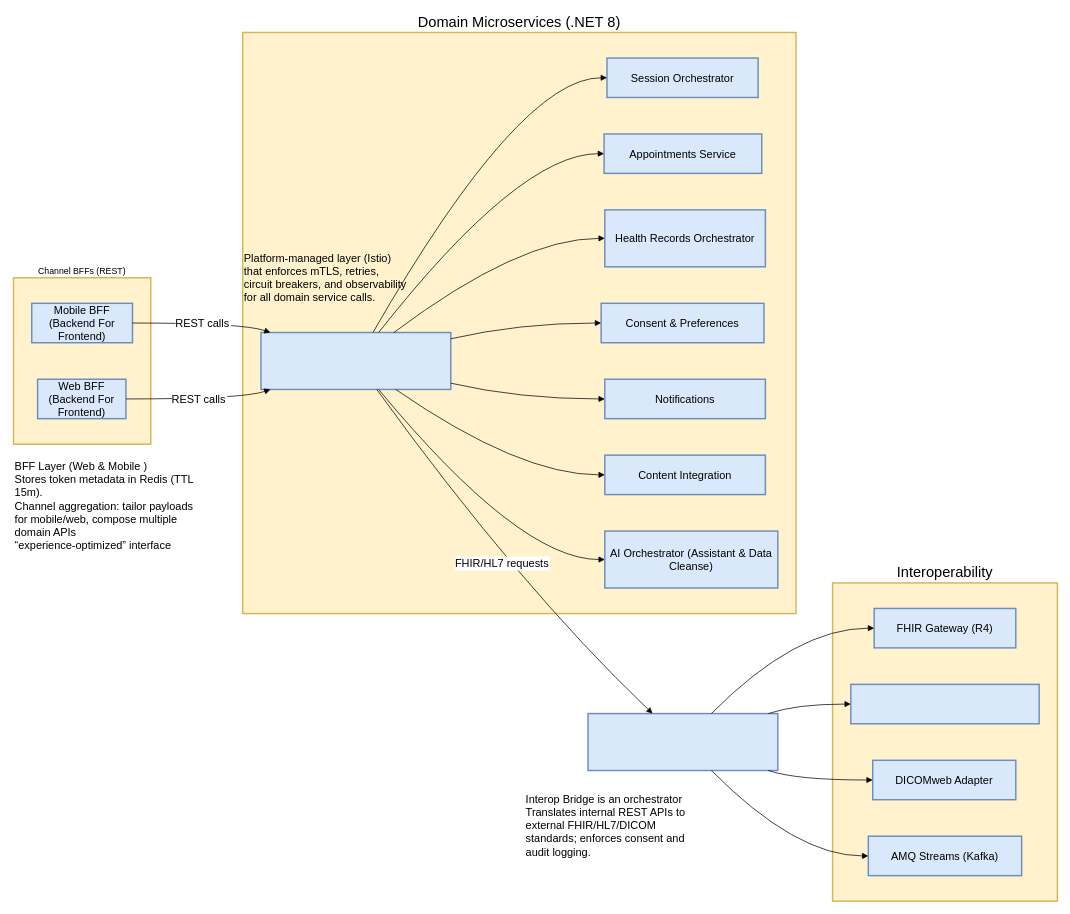
The diagram is 1070 pixels wide and 914 high, and some of its shapes have lost their labels. Here are the shapes that lost their labels. From the top down, the centre of each, then its label:
(x=355, y=360): Istio (Service Mesh Facade)
(x=945, y=703): HL7 Adapter (Red Hat Fuse)
(x=682, y=741): Interop Bridge (FHIR/HL7/DICOM Calls)
